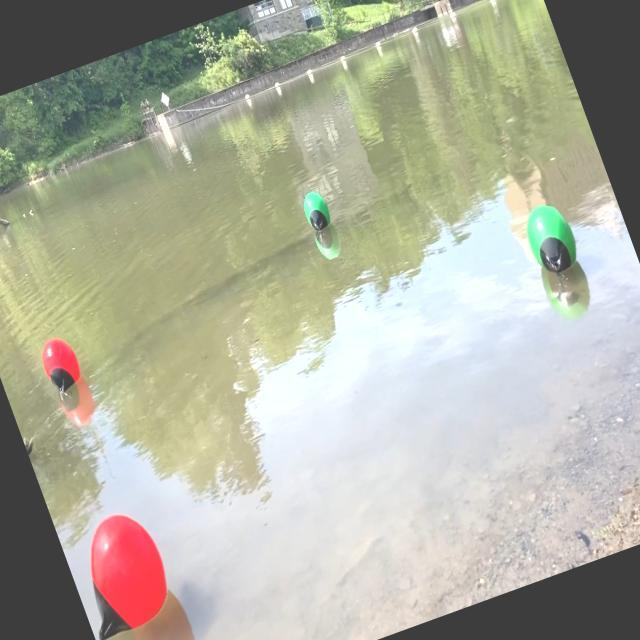buoy: (58, 501, 185, 640), (514, 192, 586, 279), (34, 332, 90, 402), (294, 185, 338, 237)
